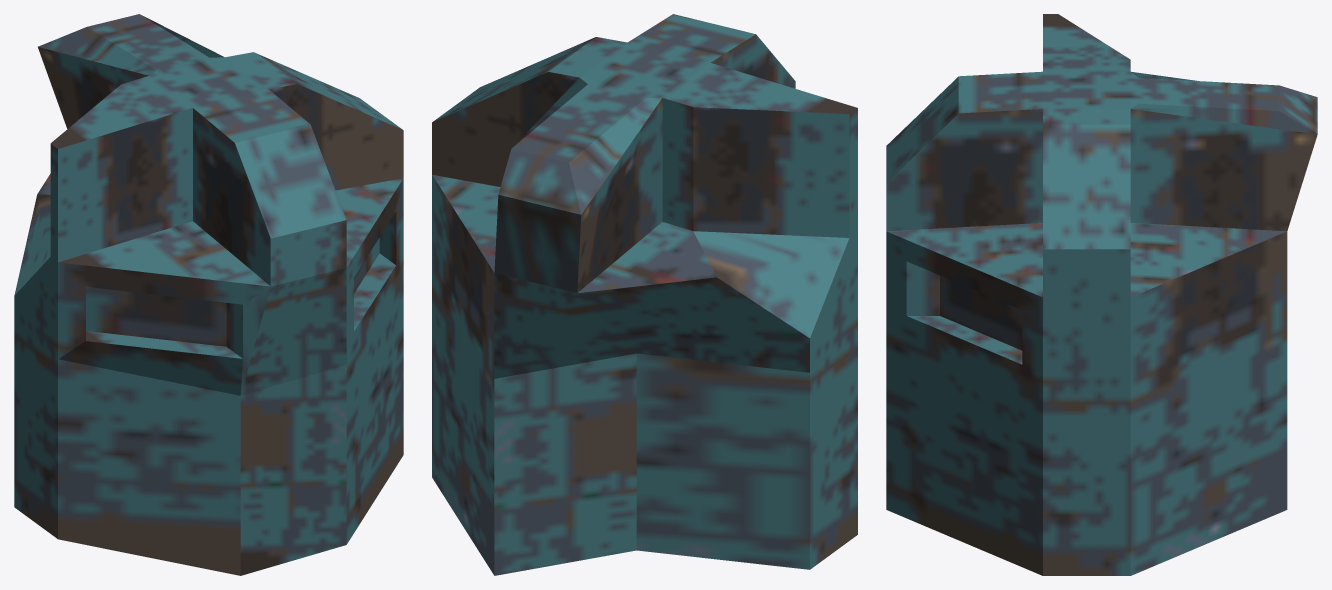
Rendered from SM_Debris_08.fbx.
3 renders of one model, left to right at view 1: azimuth 30°, elevation 25°; view 2: azimuth 150°, elevation 25°; view 3: azimuth 270°, elevation 25°, orthographic. The views are drawn at different scales.
Visible parts, largest first — view 1: shapegeneratorupgrade; view 2: shapegeneratorupgrade; view 3: shapegeneratorupgrade.
Boxes of the visible parts, x1,y1,x2,y2 form: shapegeneratorupgrade: (14,14,403,575); shapegeneratorupgrade: (432,14,857,575); shapegeneratorupgrade: (886,14,1317,575).
Bounding box in the file's own units: 308 × 362 × 331.
